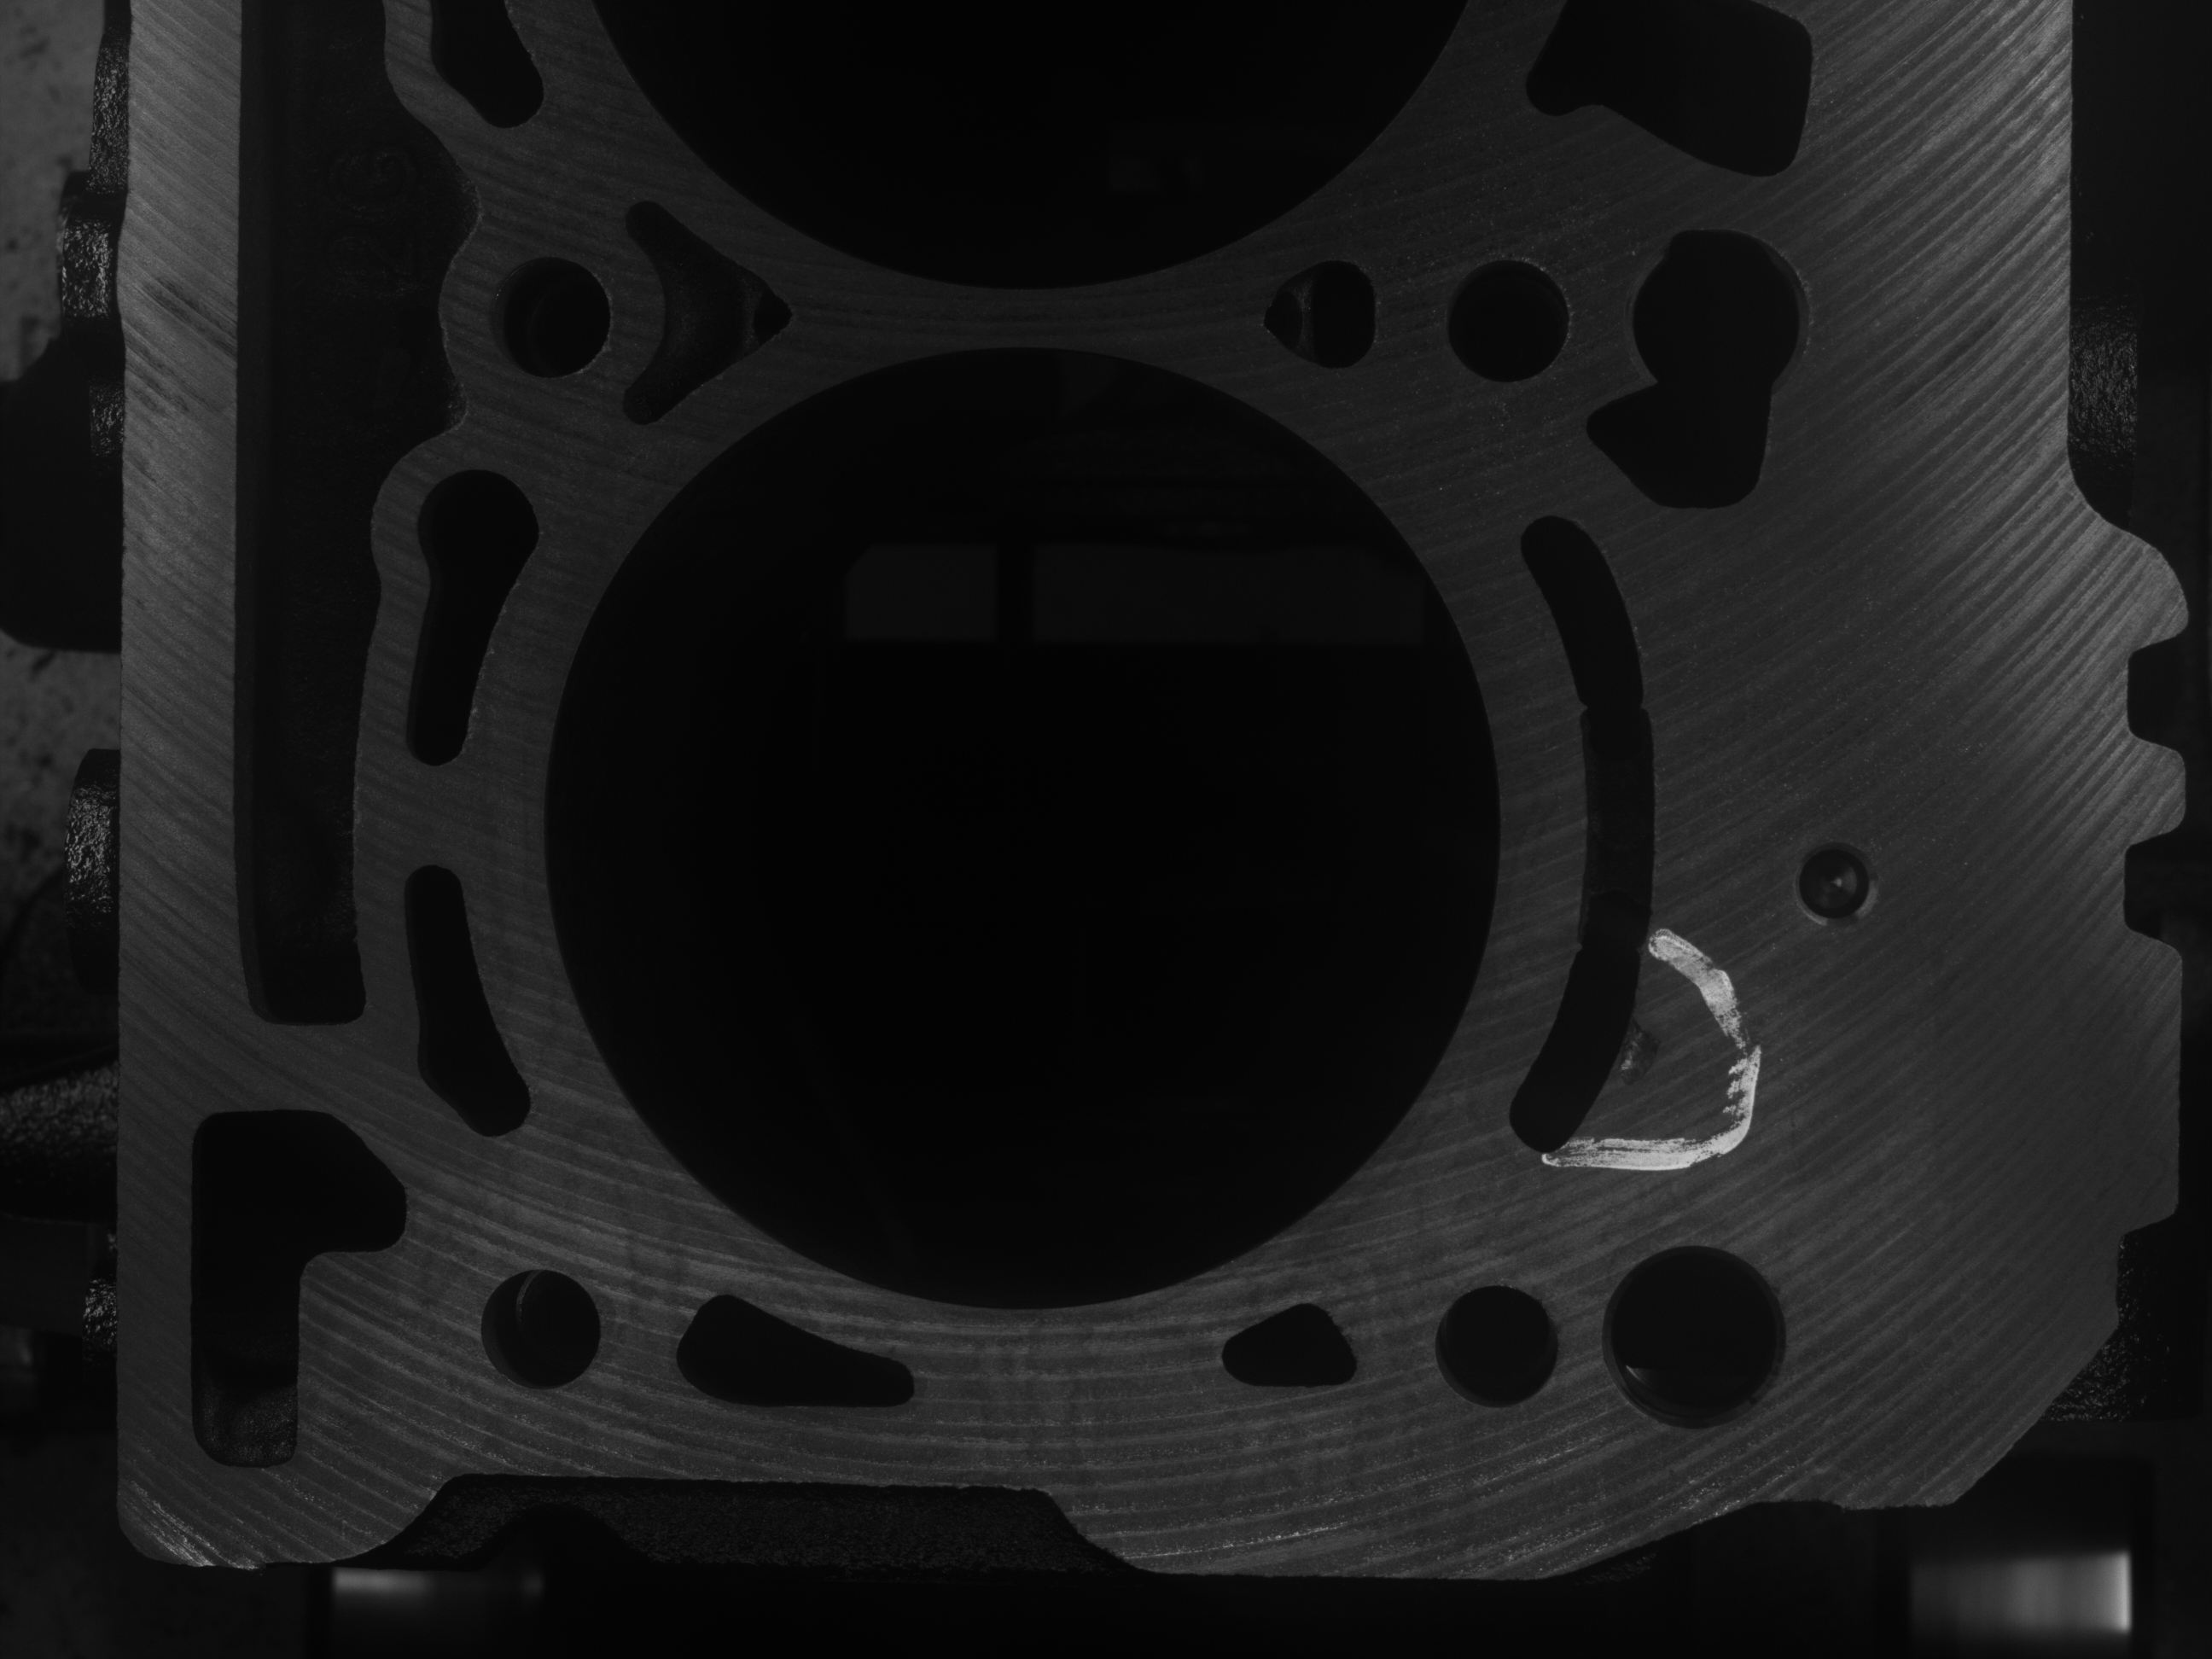sandhole: (1615, 1009, 1670, 1084)
